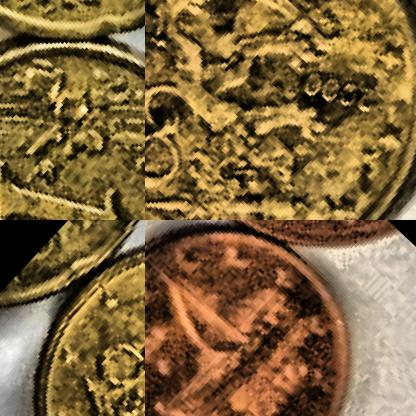coin: (145, 0, 415, 219), (145, 220, 404, 415), (0, 0, 144, 219), (0, 220, 144, 415)
